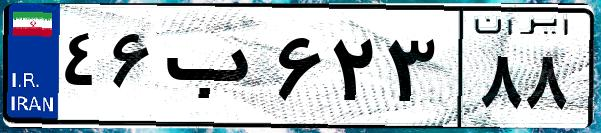2: (330, 28, 385, 110)
3: (385, 28, 445, 110)
4: (57, 26, 110, 100)
6: (270, 28, 330, 110), (110, 28, 158, 98)
8: (475, 38, 525, 113), (525, 38, 570, 115)
ب: (158, 20, 270, 120)
